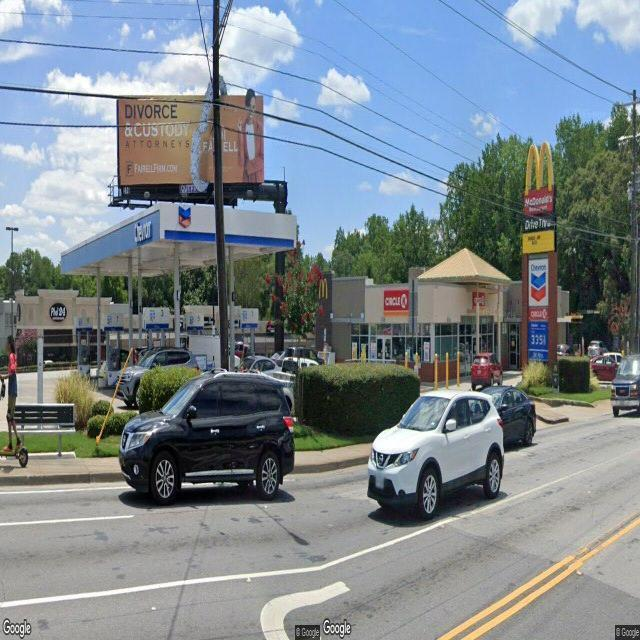seating: (8, 402, 76, 458)
